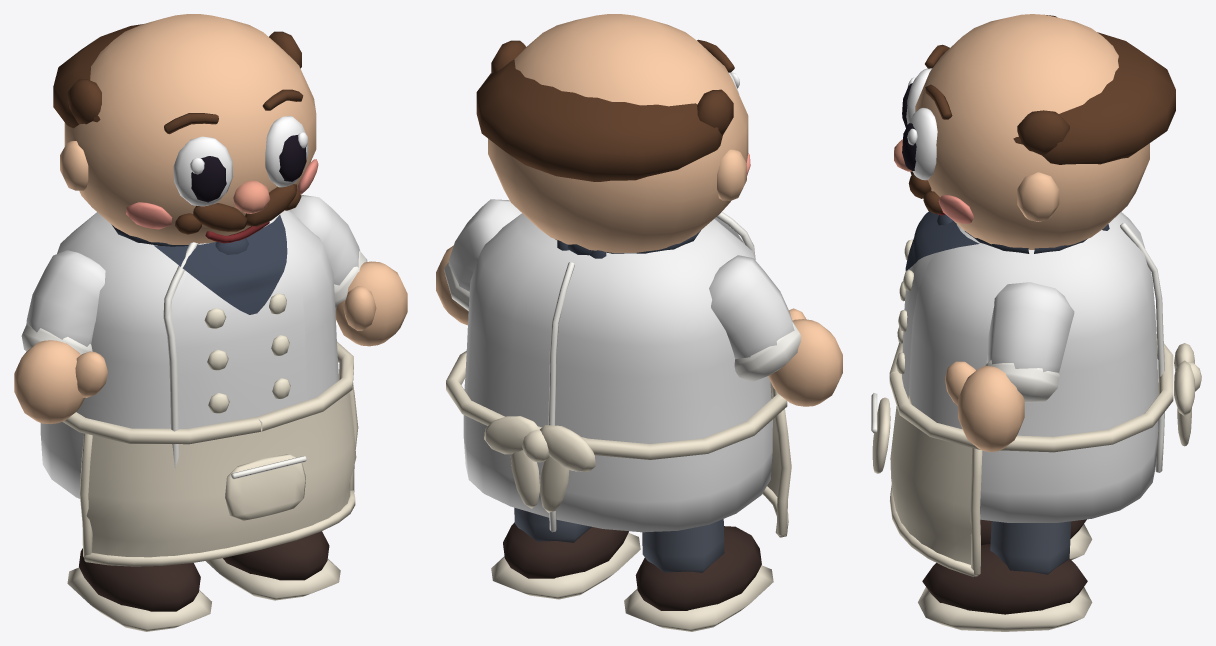
Rendered from chef_bare.glb.
The picture shows the model from 3 angles, left to right: view 1: azimuth 30°, elevation 25°; view 2: azimuth 150°, elevation 25°; view 3: azimuth 270°, elevation 25°; orthographic projection. The views are drawn at different scales.
Parts seen in each view (by area): view 1: Chef, HandR, HandL; view 2: Chef, HandR, HandL; view 3: Chef, HandL.
Part boxes in pixels (x1,y1,x2,y2): Chef: (21, 14, 367, 631); HandR: (14, 340, 107, 424); HandL: (335, 261, 407, 346); Chef: (444, 14, 800, 631); HandR: (768, 308, 842, 406); HandL: (436, 245, 468, 325); Chef: (871, 14, 1201, 631); HandL: (945, 361, 1024, 451).
Size of the model in its own units: 0.8104 by 1.11 by 0.5977.
